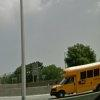Bus: (53, 57, 100, 95)
